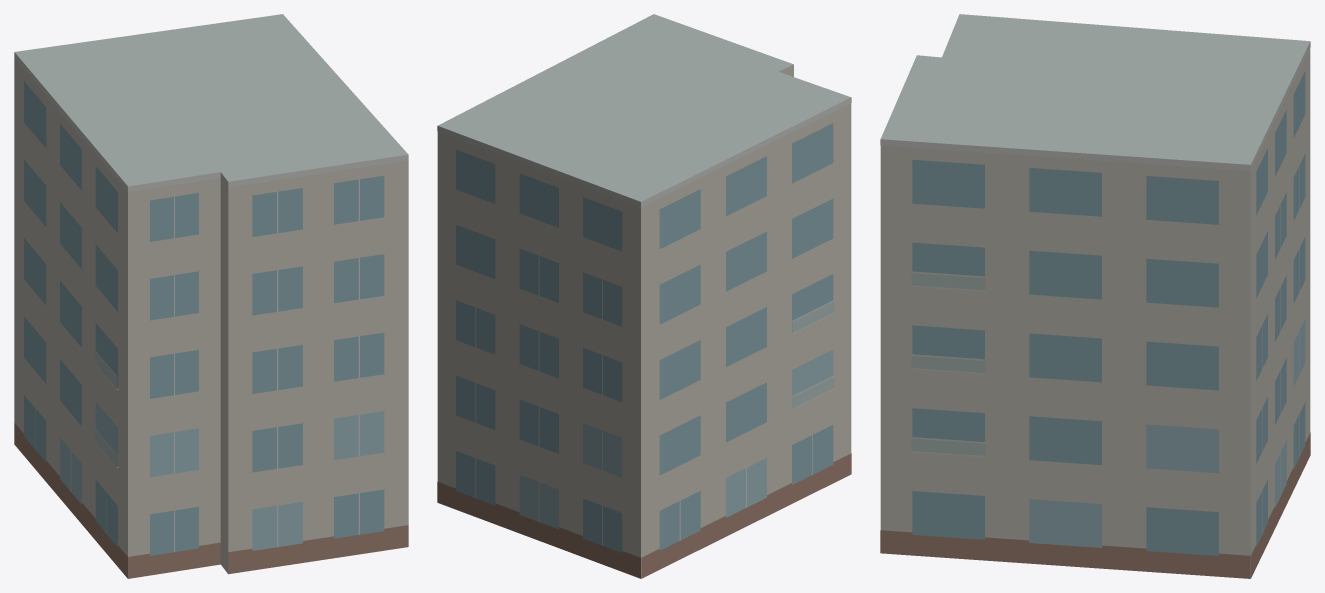
File: survey-upis-32887525.glb
3 views of the same model, side by side, from view 1: azimuth 30°, elevation 25°; view 2: azimuth 150°, elevation 25°; view 3: azimuth 270°, elevation 25° (orthographic). The views are drawn at different scales.
Parts seen in each view (by area): view 1: survey-upis-32887525.tmp; view 2: survey-upis-32887525.tmp; view 3: survey-upis-32887525.tmp.
Boxes of the visible parts, <box> form: survey-upis-32887525.tmp: <box>14,14,408,578</box>; survey-upis-32887525.tmp: <box>437,14,851,578</box>; survey-upis-32887525.tmp: <box>880,14,1310,578</box>.
Bounding box in the file's own units: 12.78 × 16.35 × 15.4.
